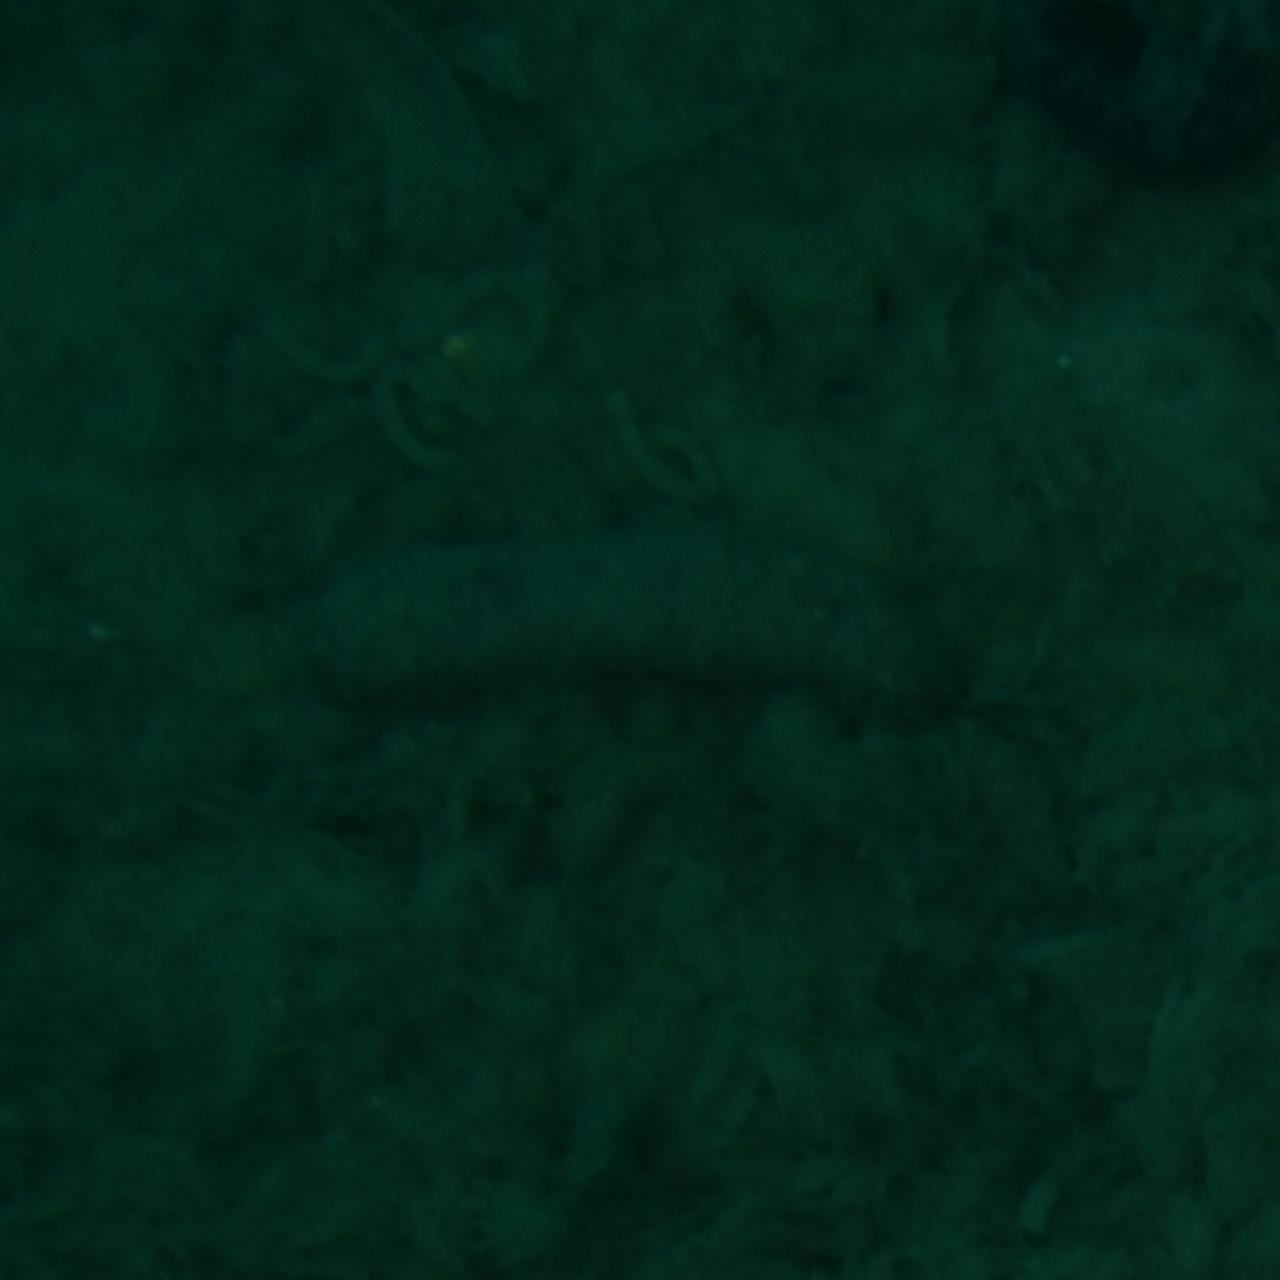Holothuria tubulosa: (272, 532, 1008, 748)
